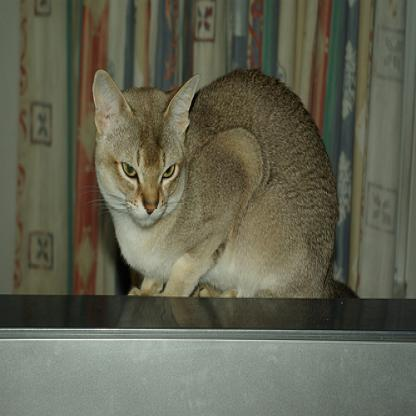cat: (93, 69, 357, 295)
